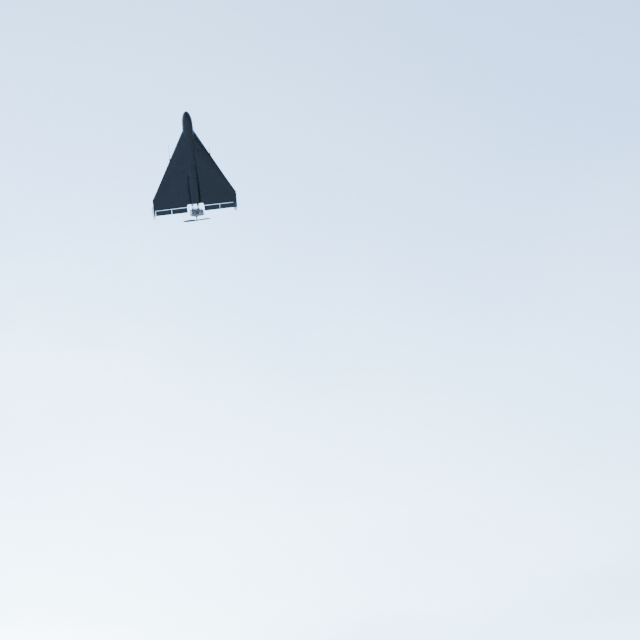shahed: (152, 111, 238, 222)
